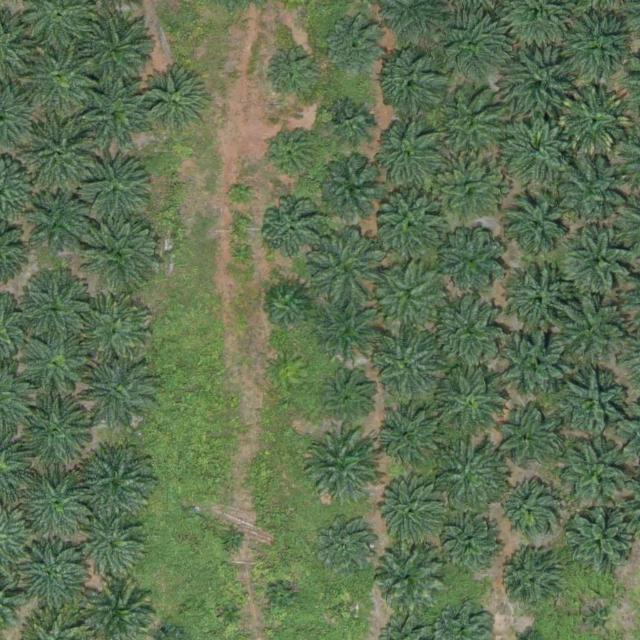Kelapa_Sawit: (75, 12, 153, 90), (78, 151, 156, 229), (78, 211, 156, 289), (16, 118, 94, 196), (21, 38, 99, 116), (304, 227, 382, 305), (16, 268, 94, 346), (75, 292, 153, 370), (11, 540, 89, 618), (16, 469, 94, 547), (13, 393, 91, 471), (77, 354, 155, 432), (75, 445, 153, 523), (300, 427, 378, 505), (432, 436, 510, 514), (556, 436, 634, 514), (563, 8, 633, 79), (80, 77, 150, 148), (554, 296, 624, 367), (559, 84, 629, 154), (558, 157, 628, 227), (500, 190, 570, 260), (500, 112, 570, 182), (505, 49, 575, 119), (436, 8, 506, 78), (435, 87, 505, 157), (431, 153, 501, 223), (376, 191, 446, 261), (370, 119, 440, 189), (376, 46, 446, 116), (139, 68, 209, 138), (20, 192, 90, 262), (563, 225, 633, 295), (437, 222, 507, 292), (375, 264, 445, 334), (313, 295, 383, 365), (505, 266, 575, 336), (372, 330, 442, 400), (373, 476, 443, 546), (369, 541, 439, 611), (434, 294, 504, 364), (434, 365, 504, 435), (495, 326, 565, 396), (555, 366, 625, 436), (567, 507, 637, 577), (325, 15, 387, 78), (320, 159, 382, 222), (82, 517, 144, 580), (313, 514, 375, 577), (377, 406, 439, 469), (439, 514, 501, 577), (495, 406, 557, 469), (496, 479, 558, 542), (495, 550, 557, 613), (260, 199, 322, 261), (24, 335, 86, 397), (266, 48, 321, 103), (264, 128, 319, 183), (320, 367, 374, 422), (264, 283, 310, 330), (327, 99, 373, 145), (580, 603, 611, 634), (229, 185, 252, 208), (336, 598, 359, 621), (271, 586, 294, 609), (220, 602, 243, 625), (220, 528, 243, 551)
